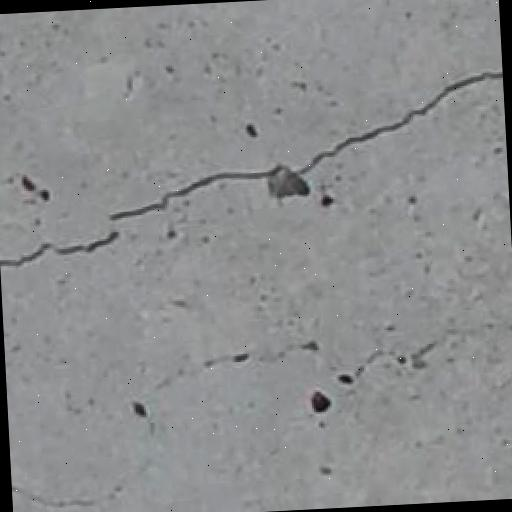spalling: (5, 57, 493, 292)
